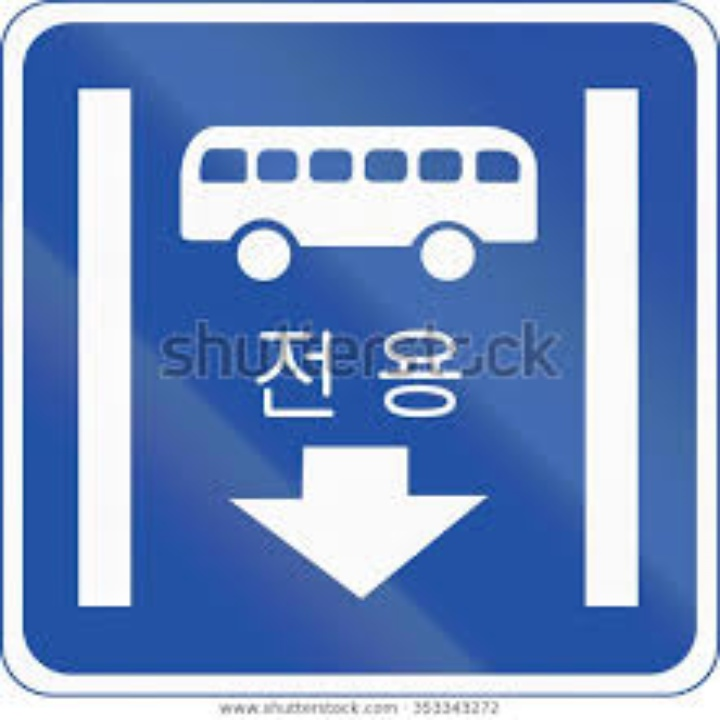bus: (163, 106, 553, 296)
